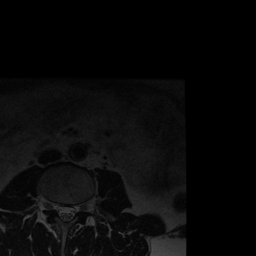CCS_normal: (62, 197, 70, 228)
LFS_normal: (78, 191, 85, 221)
LLS_normal: (70, 195, 78, 225)
RFS_normal: (47, 189, 55, 215)
RLS_normal: (55, 196, 62, 223)
